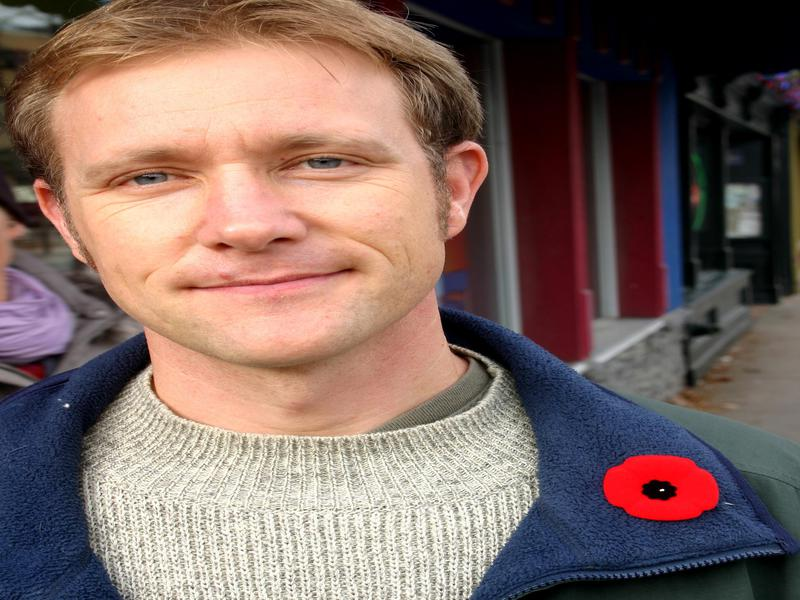person: (6, 1, 799, 600)
